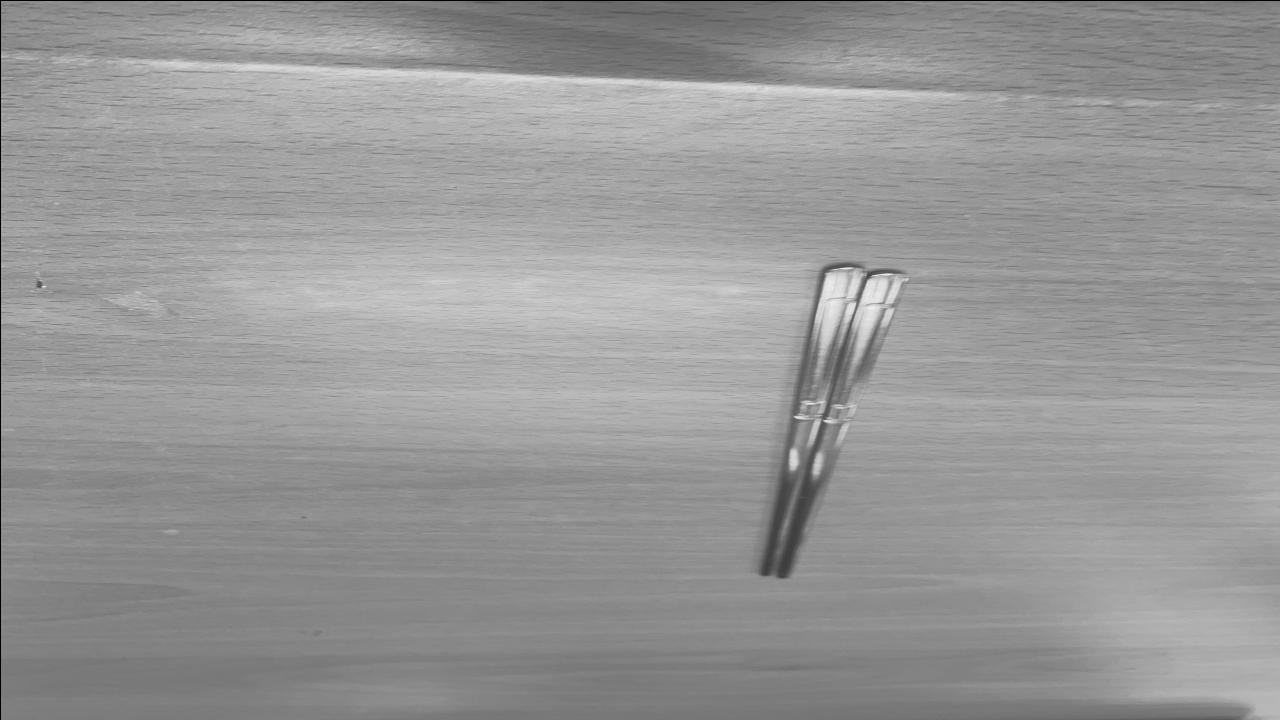chopstick: (760, 266, 904, 576)
